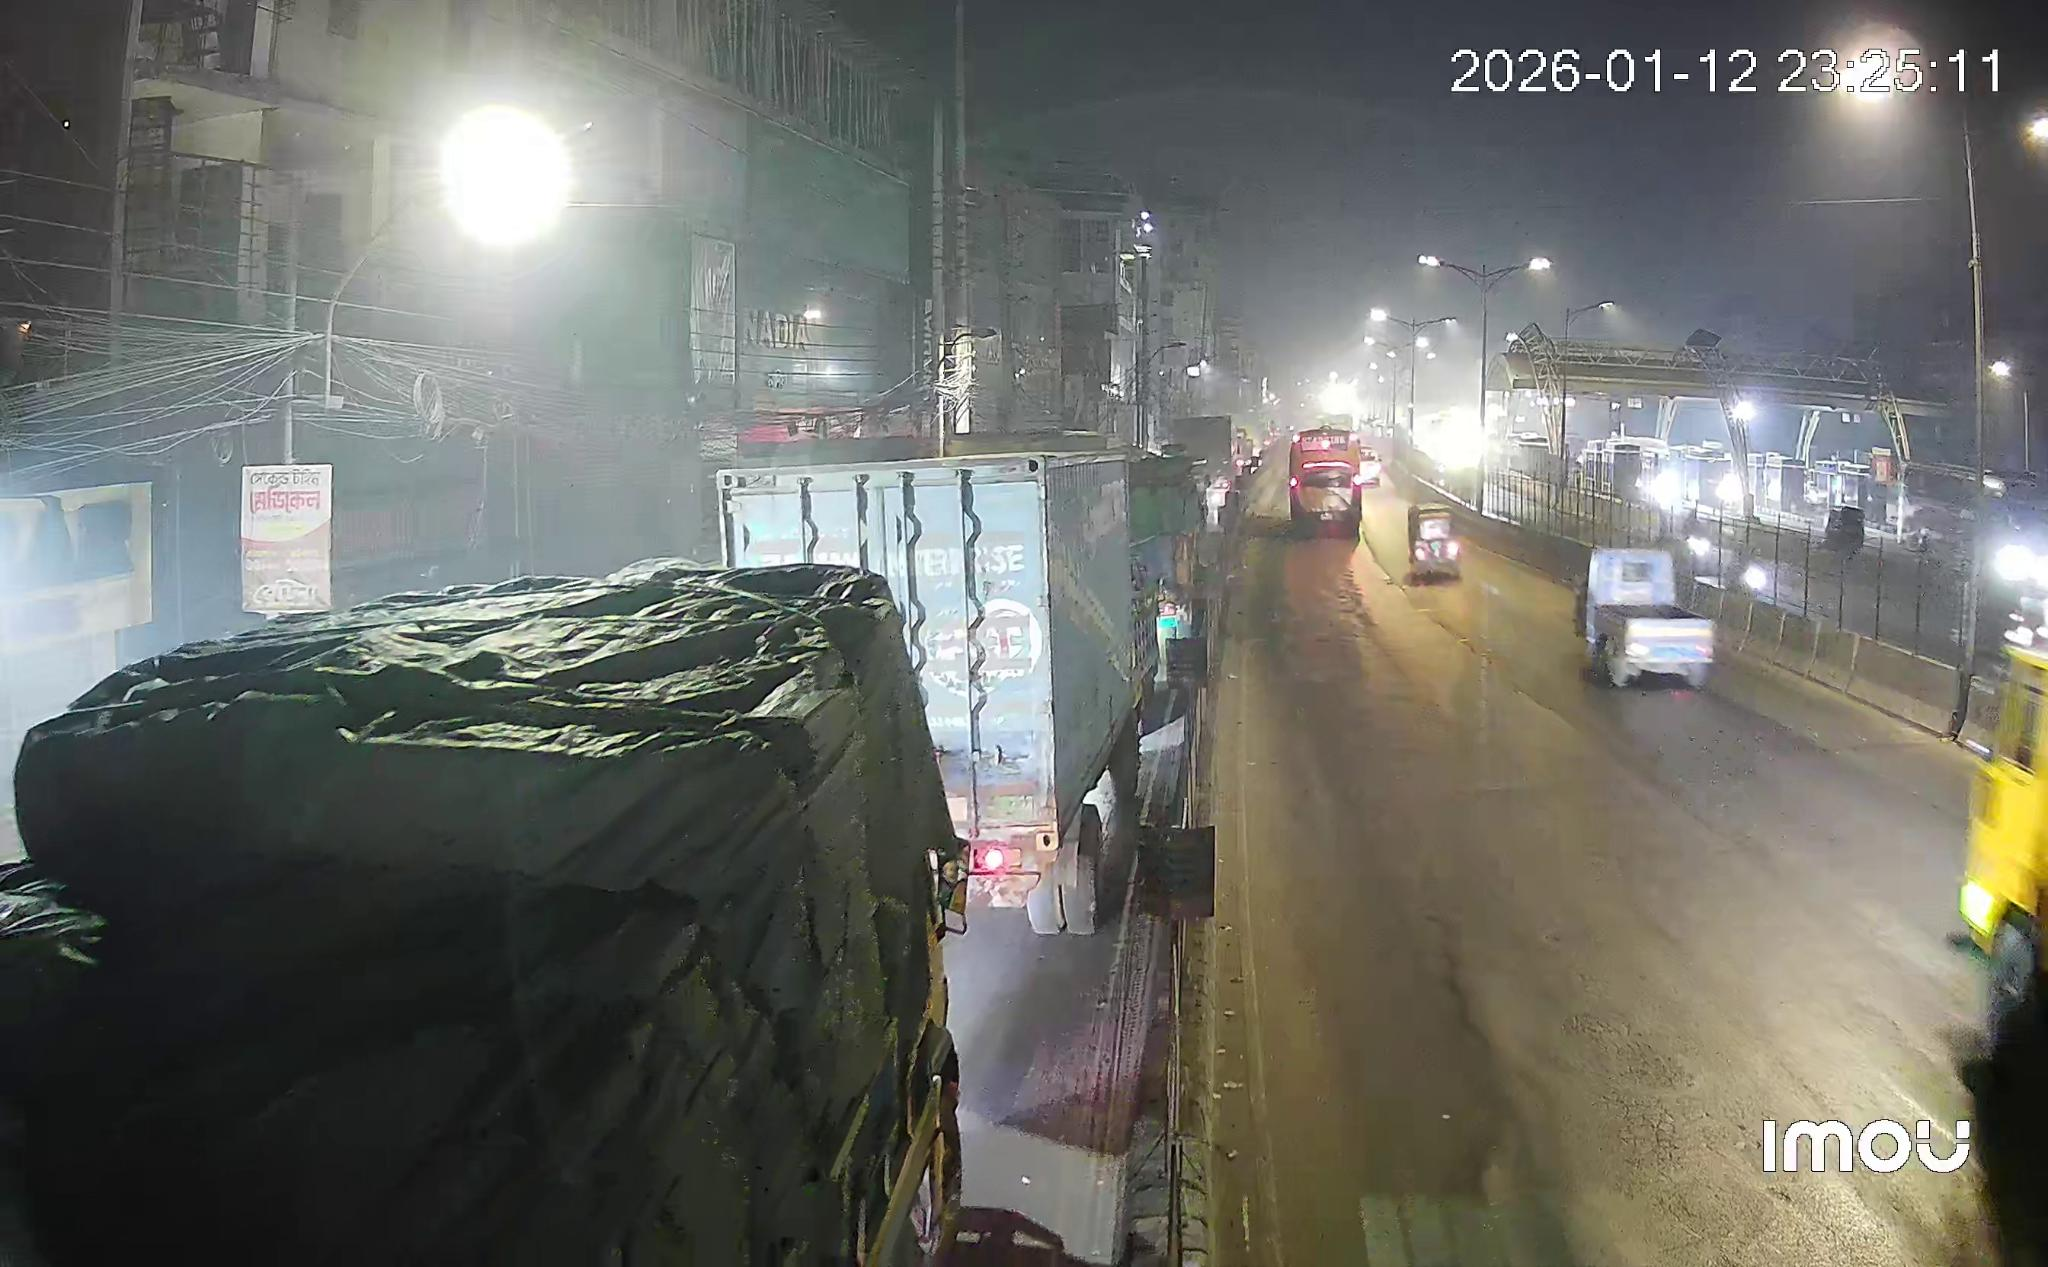Bus: (1288, 428, 1363, 539)
CNG-Tempo: (1406, 504, 1461, 583)
Truck: (0, 559, 966, 1267), (719, 435, 1157, 934), (1575, 549, 1714, 688)
